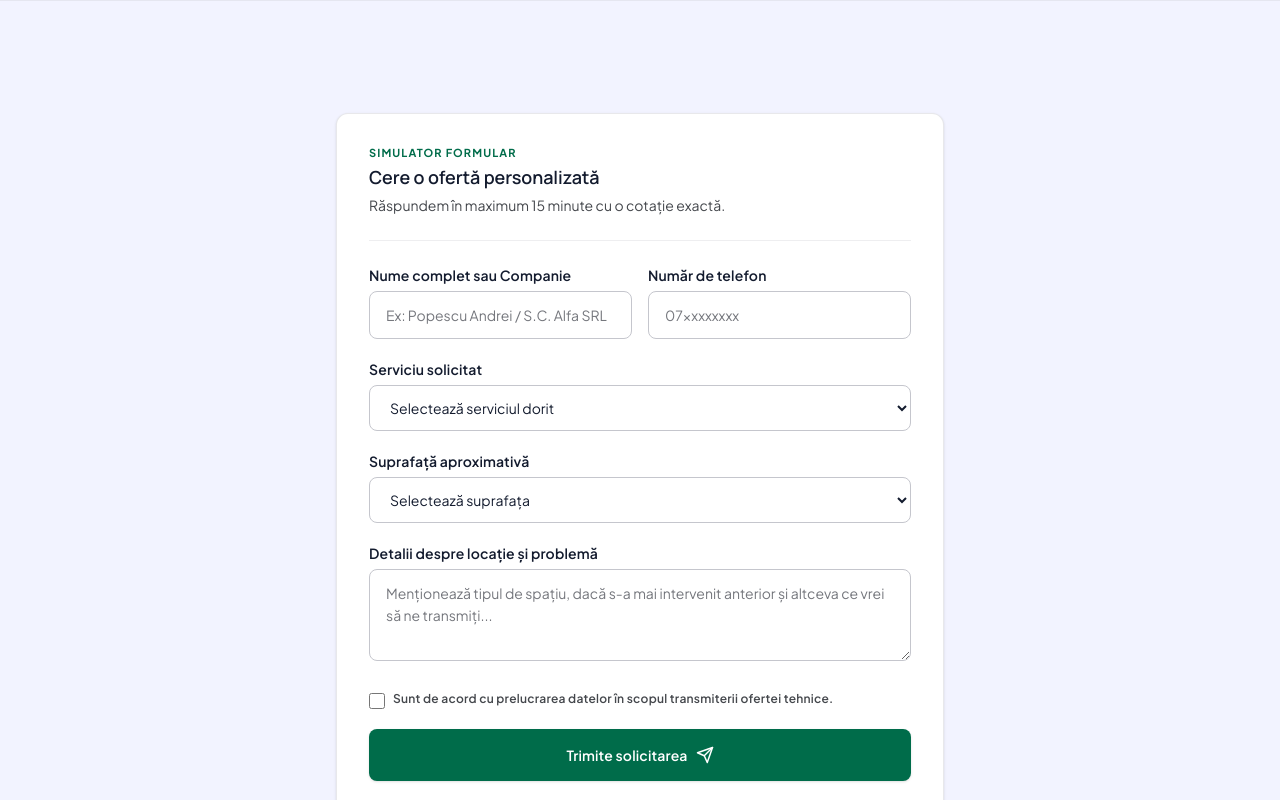
Scenario: ContactForm › clears a field's error as the user edits it
The width and height of the screenshot is (1280, 800).
Click the button "Trimite solicitarea": (640, 755) x1=369 y1=729 x2=911 y2=781
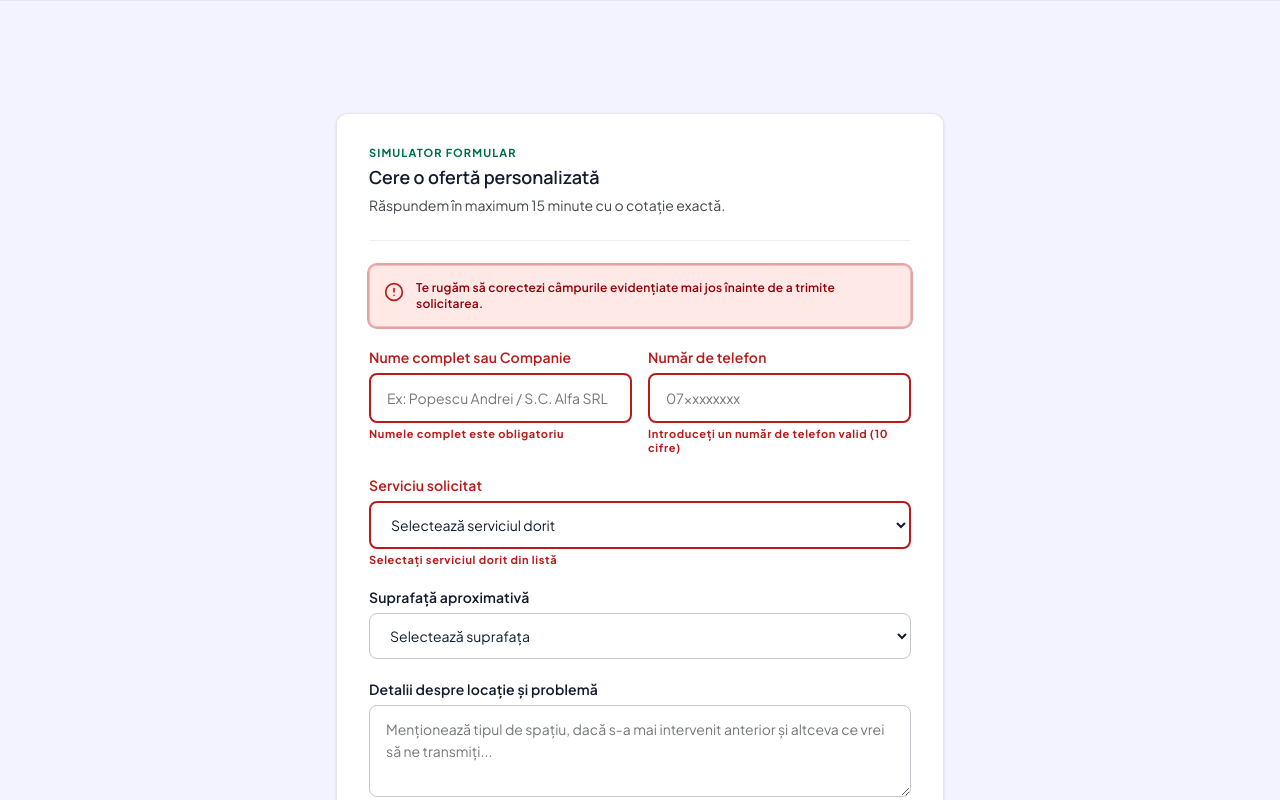
Expected: the text "Numele complet este obligatoriu" is shown, x1=369 y1=427 x2=564 y2=440
In the field labelled "Nume complet sau Companie": (500, 398) x1=369 y1=373 x2=632 y2=423, type "A"
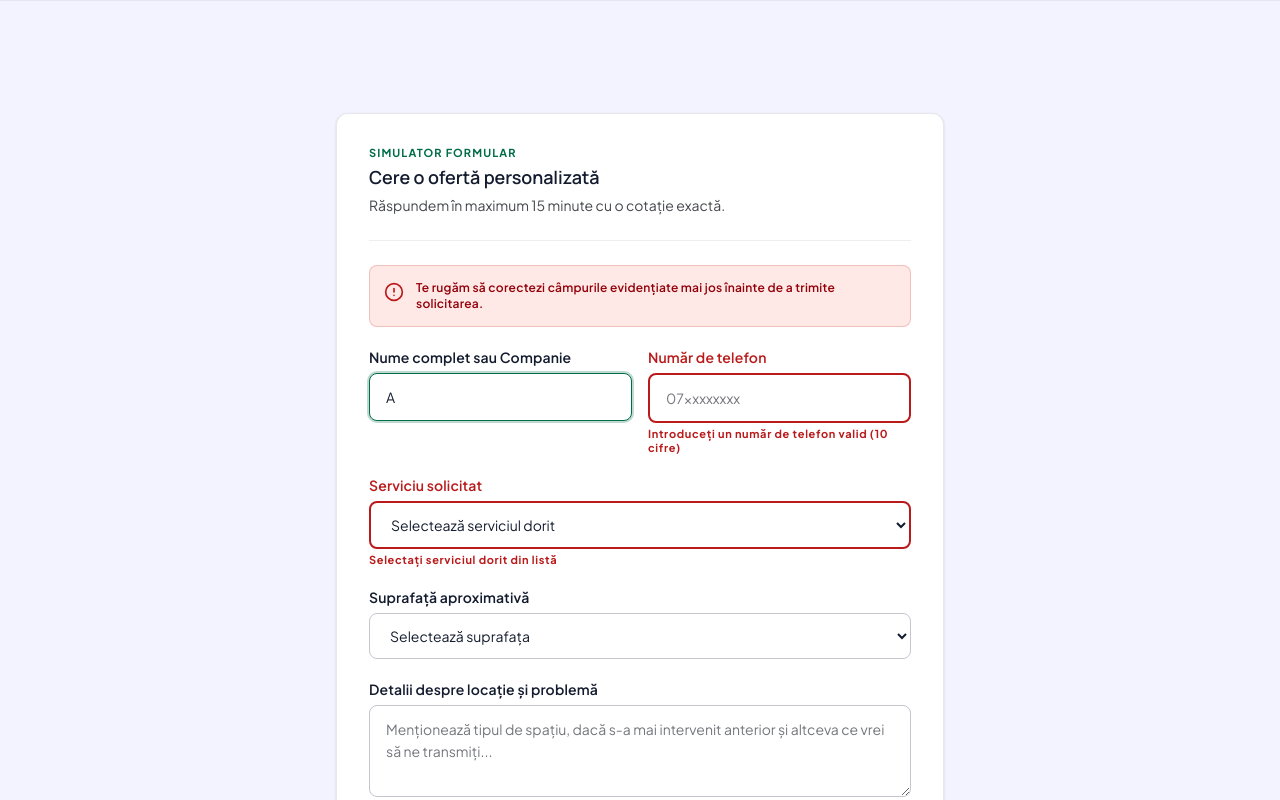
Expected: the text "Numele complet este obligatoriu" is gone
